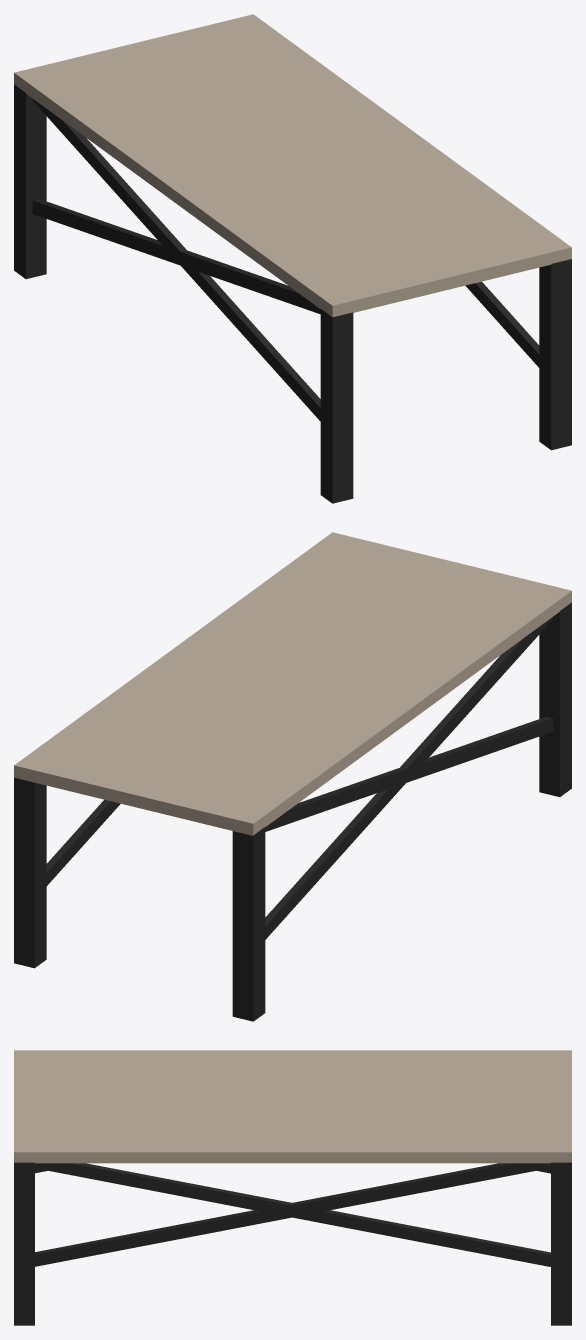
The model's file is GrandeTable_25.fbx.
3 views of the same model, one above another, from view 1: azimuth 30°, elevation 25°; view 2: azimuth 150°, elevation 25°; view 3: azimuth 270°, elevation 25° (orthographic). The views are drawn at different scales.
Visible parts, largest first — view 1: pCube64, pCube66, pCube65, pCube73, pCube67, pCube74, pCube72; view 2: pCube64, pCube67, pCube68, pCube74, pCube66, pCube73, pCube69; view 3: pCube64, pCube69, pCube72, pCube68, pCube65.
Part boxes in pixels (box(x1,y1,x2,y2)): pCube64: box(14, 14, 571, 317); pCube66: box(320, 309, 353, 503); pCube65: box(539, 259, 571, 450); pCube73: box(32, 99, 320, 421); pCube67: box(14, 84, 46, 279); pCube74: box(32, 199, 320, 314); pCube72: box(465, 281, 539, 367); pCube64: box(14, 532, 571, 835); pCube67: box(232, 827, 265, 1021); pCube68: box(14, 777, 46, 968); pCube74: box(265, 617, 553, 939); pCube66: box(539, 602, 571, 797); pCube73: box(265, 716, 553, 831); pCube69: box(46, 799, 120, 885); pCube64: box(14, 1050, 571, 1163); pCube69: box(35, 1163, 550, 1266); pCube72: box(35, 1163, 550, 1266); pCube68: box(551, 1162, 571, 1325); pCube65: box(14, 1162, 34, 1325).
Size of the model in its own units: 52.71 by 41.63 by 121.
